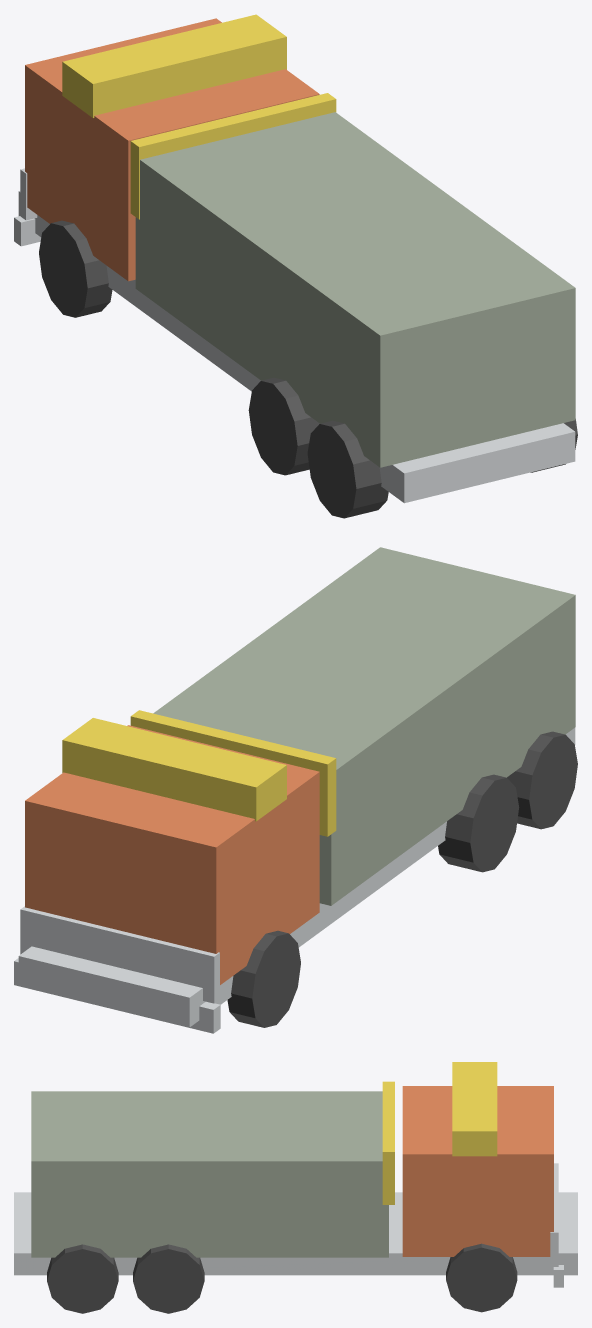
Rendered from goods_truck.glb.
3 renders of one model, top to bottom at view 1: azimuth 30°, elevation 25°; view 2: azimuth 150°, elevation 25°; view 3: azimuth 270°, elevation 25°, orthographic. The views are drawn at different scales.
Parts seen in each view (by area): view 1: goods_truck; view 2: goods_truck; view 3: goods_truck.
Part boxes in pixels (x1,y1,x2,y2): goods_truck: [14, 14, 577, 518]; goods_truck: [14, 547, 577, 1033]; goods_truck: [14, 1062, 577, 1313].
Bounding box in the file's own units: 2.72 × 2.85 × 8.2.
